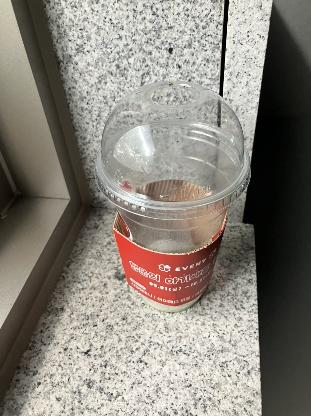Plastic Cup: (91, 75, 249, 307)
